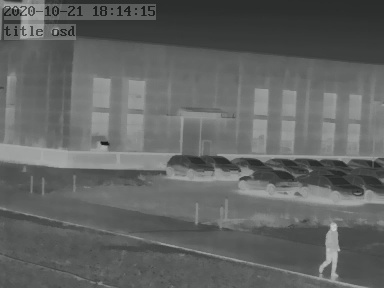person: (319, 221, 341, 280)
vehicle: (300, 171, 362, 199), (240, 169, 304, 193), (165, 153, 213, 179), (204, 153, 242, 177), (349, 173, 381, 200), (232, 155, 271, 172), (261, 156, 300, 171), (347, 156, 378, 170), (318, 156, 347, 169), (296, 156, 324, 169)
